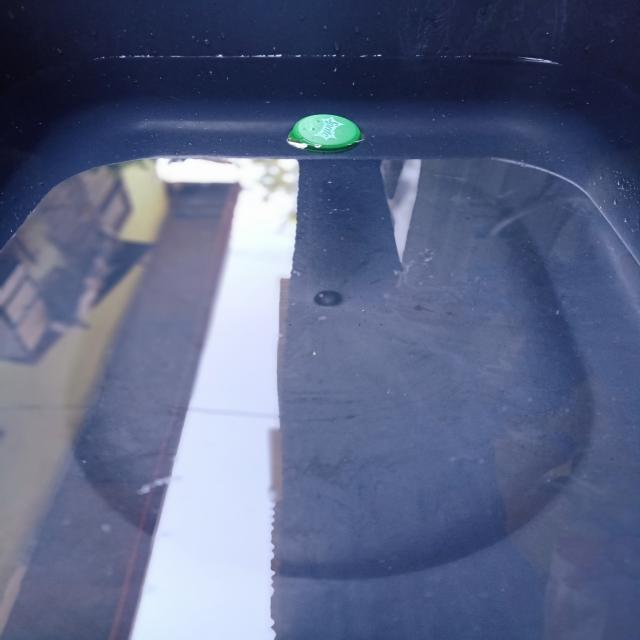Bottle Lid: (268, 106, 384, 164)
